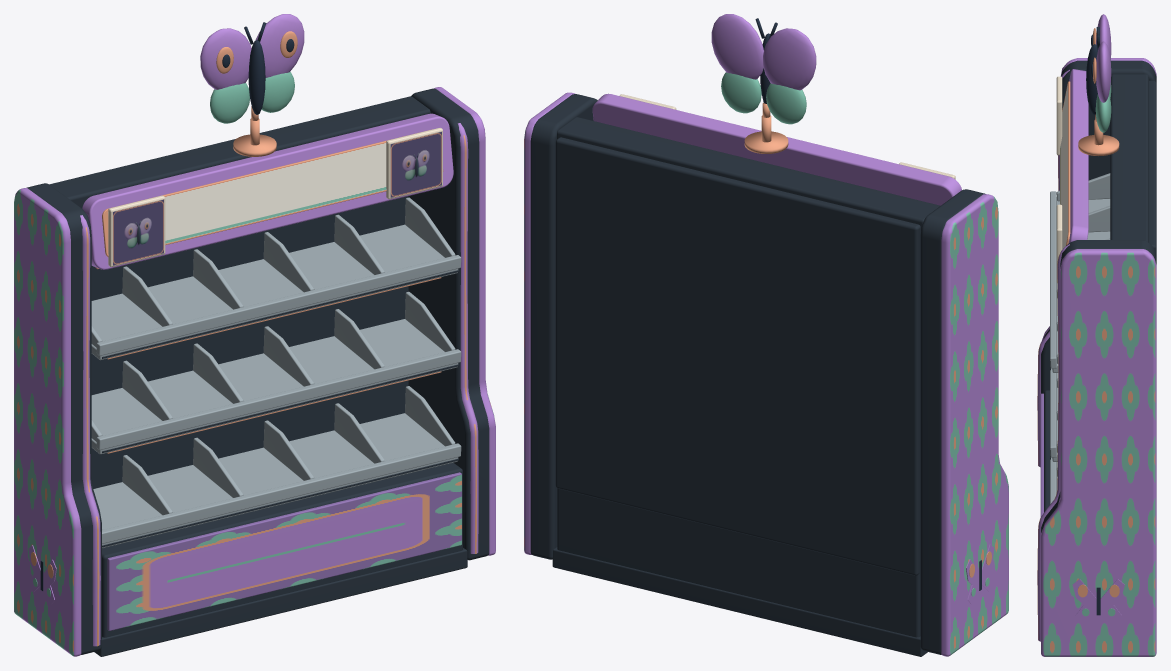
The model's file is TH_BUTTERFLY_GARDEN.fbx.
3 views of the same model, side by side, from view 1: azimuth 30°, elevation 25°; view 2: azimuth 150°, elevation 25°; view 3: azimuth 270°, elevation 25° (orthographic). The views are drawn at different scales.
Visible parts, largest first — view 1: BaseFrontInset, Left_PaintedPanel, BackPanel.001, Right_StructuralWall, Tray_02, Tray_01, Tray_03, HeaderFace, HeaderBorder, TopCrossRail, Left_StructuralWall, ClosedSolidBase (+37 smaller); view 2: BackPanel.001, Left_PaintedPanel, ClosedSolidBase, Right_StructuralWall, HeaderBorder, Left_StructuralWall, TopCrossRail, LowerPlinth, Right_PaintedPanel, Upper butterfly wing, Upper butterfly wing.001, Lower butterfly wing.001 (+2 smaller); view 3: Right_PaintedPanel, TopCrossRail, HeaderBorder, Left_StructuralWall, HeaderFace, BackPanel.001, RightHousing, FrontLip_01, Right_StructuralWall, Upper butterfly wing.001, ClosedSolidBase, TopperMount (+16 smaller).
Part boxes in pixels (bbox=[...]): BaseFrontInset: bbox=[107, 472, 461, 630]; Left_PaintedPanel: bbox=[14, 188, 81, 656]; BackPanel.001: bbox=[91, 196, 408, 488]; Right_StructuralWall: bbox=[408, 88, 489, 560]; Tray_02: bbox=[91, 319, 458, 454]; Tray_01: bbox=[91, 224, 458, 360]; Tray_03: bbox=[93, 413, 458, 548]; HeaderFace: bbox=[102, 129, 443, 257]; HeaderBorder: bbox=[82, 113, 453, 269]; TopCrossRail: bbox=[49, 96, 430, 208]; Left_StructuralWall: bbox=[26, 183, 101, 654]; ClosedSolidBase: bbox=[102, 462, 462, 637]; BackPanel.001: bbox=[555, 137, 920, 575]; Left_PaintedPanel: bbox=[941, 194, 1008, 656]; ClosedSolidBase: bbox=[557, 488, 920, 637]; Right_StructuralWall: bbox=[530, 94, 597, 559]; HeaderBorder: bbox=[592, 93, 961, 205]; Left_StructuralWall: bbox=[920, 189, 985, 654]; TopCrossRail: bbox=[557, 117, 940, 230]; LowerPlinth: bbox=[552, 547, 927, 656]; Right_PaintedPanel: bbox=[524, 92, 575, 554]; Upper butterfly wing: bbox=[763, 28, 816, 90]; Upper butterfly wing.001: bbox=[711, 14, 763, 79]; Lower butterfly wing.001: bbox=[721, 72, 761, 113]; Right_PaintedPanel: bbox=[1041, 249, 1156, 656]; TopCrossRail: bbox=[1110, 74, 1148, 242]; HeaderBorder: bbox=[1068, 69, 1088, 243]; Left_StructuralWall: bbox=[1041, 60, 1156, 393]; HeaderFace: bbox=[1060, 81, 1070, 249]; BackPanel.001: bbox=[1149, 80, 1156, 255]; RightHousing: bbox=[1037, 244, 1069, 641]; FrontLip_01: bbox=[1050, 191, 1056, 368]; Right_StructuralWall: bbox=[1041, 240, 1156, 532]; Upper butterfly wing.001: bbox=[1096, 41, 1111, 102]; ClosedSolidBase: bbox=[1044, 390, 1049, 512]; TopperMount: bbox=[1078, 135, 1119, 155].
Size of the model in its own units: 3.62 by 4.61 by 0.9273.
